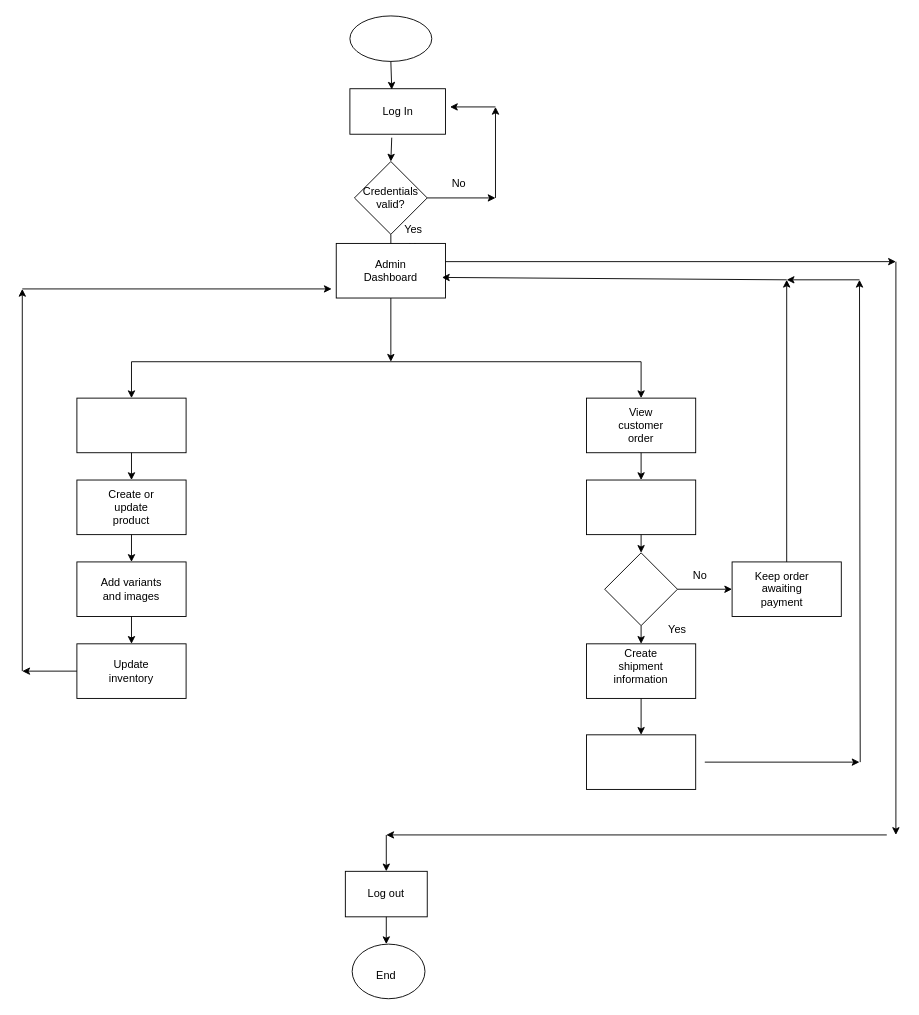
This 919x1015 diagram has some shape labels left out. Here are the shapes that lost their labels. From the top down, the centre of each, then its label:
At point (390, 38): "START".
At point (131, 425): "Manage Products".
At point (641, 507): "View payment status".
At point (640, 589): "Payment Success ?".
At point (641, 761): "Update shipment status".
